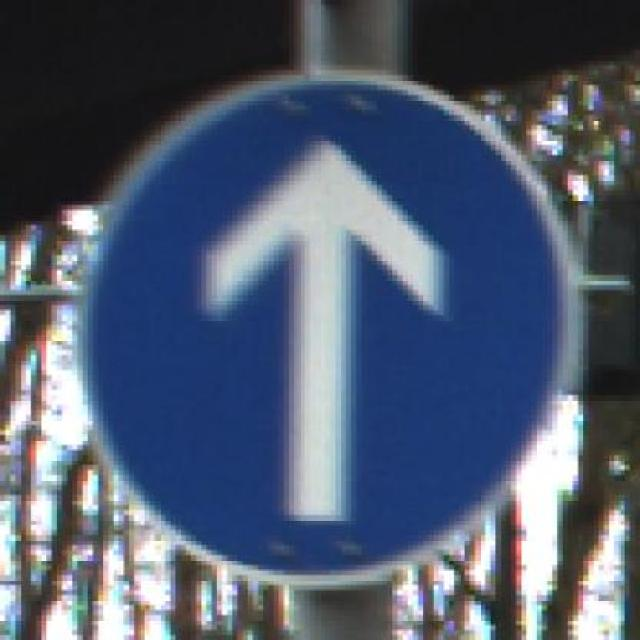Straight Ahead Only: (61, 50, 598, 595)
